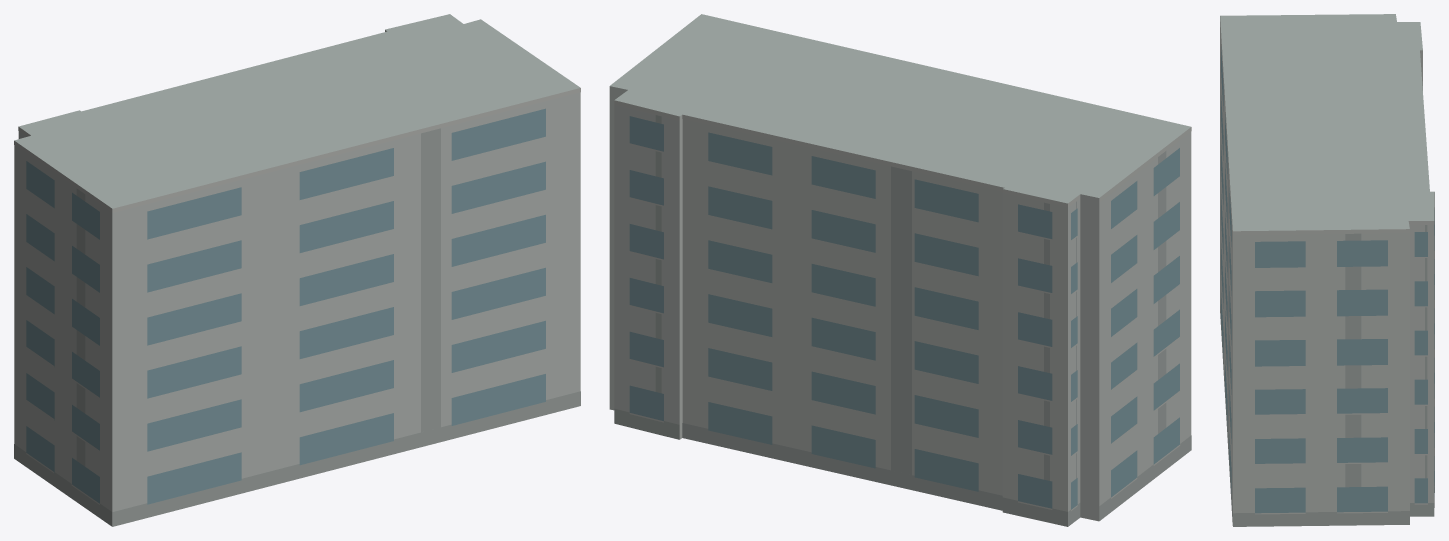
Rendered from survey-upis-32841107.glb.
3 views of the same model, side by side, from view 1: azimuth 30°, elevation 25°; view 2: azimuth 150°, elevation 25°; view 3: azimuth 270°, elevation 25° (orthographic). The views are drawn at different scales.
Parts seen in each view (by area): view 1: survey-upis-32841107.tmp; view 2: survey-upis-32841107.tmp; view 3: survey-upis-32841107.tmp.
Part boxes in pixels (box(x1,y1,x2,y2)): survey-upis-32841107.tmp: box(14, 14, 580, 526); survey-upis-32841107.tmp: box(609, 14, 1191, 526); survey-upis-32841107.tmp: box(1220, 14, 1434, 526).
Size of the model in its own units: 28.05 by 17.8 by 11.73.
